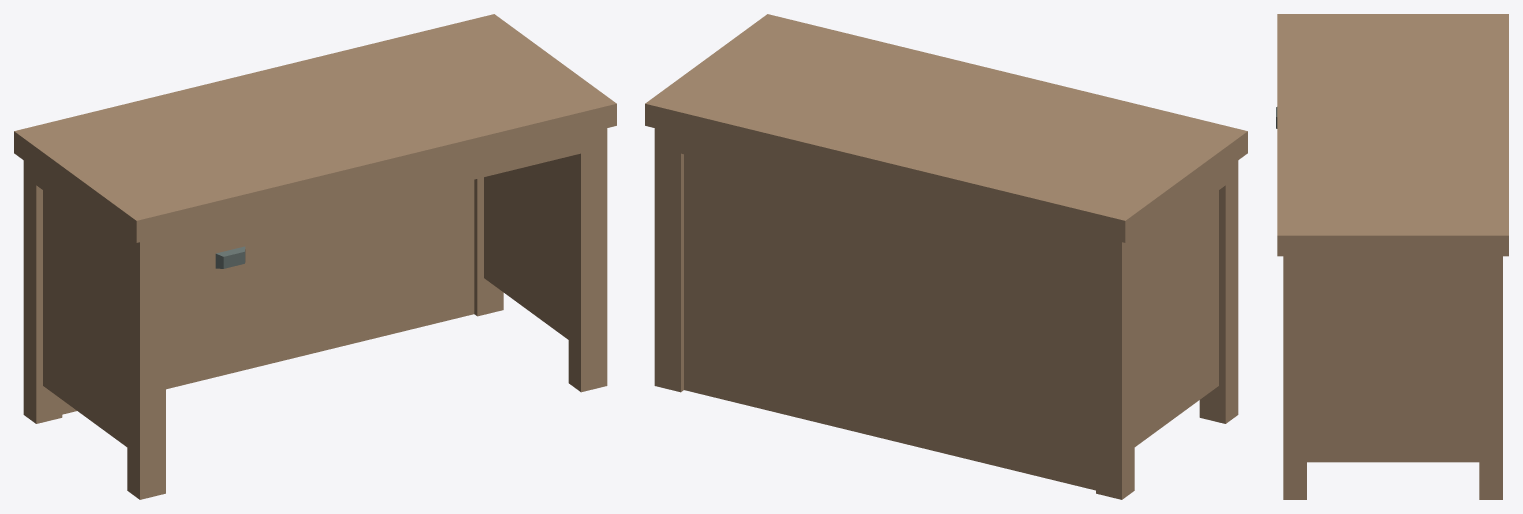
File: desk.glb
3 renders of one model, left to right at view 1: azimuth 30°, elevation 25°; view 2: azimuth 150°, elevation 25°; view 3: azimuth 270°, elevation 25°, orthographic. The views are drawn at different scales.
Parts seen in each view (by area): view 1: desk(Clone), drawer; view 2: desk(Clone); view 3: desk(Clone).
Boxes of the visible parts, <box> form: desk(Clone): <box>14,14,616,499</box>; drawer: <box>166,223,294,291</box>; desk(Clone): <box>645,14,1247,499</box>; desk(Clone): <box>1277,14,1508,499</box>.
Bounding box in the file's own units: 1.35 × 0.76 × 0.6.
